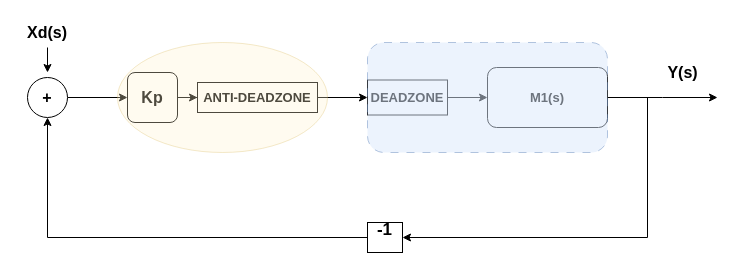
The diagram is 743 pixels wide and 272 high, and some of its shapes have lost their labels. Here are the shapes that lost their labels. From the top down, the box of each, then its label:
(116, 42, 328, 152): SOFTWARE
(366, 42, 608, 152): CR-MECHANISM
